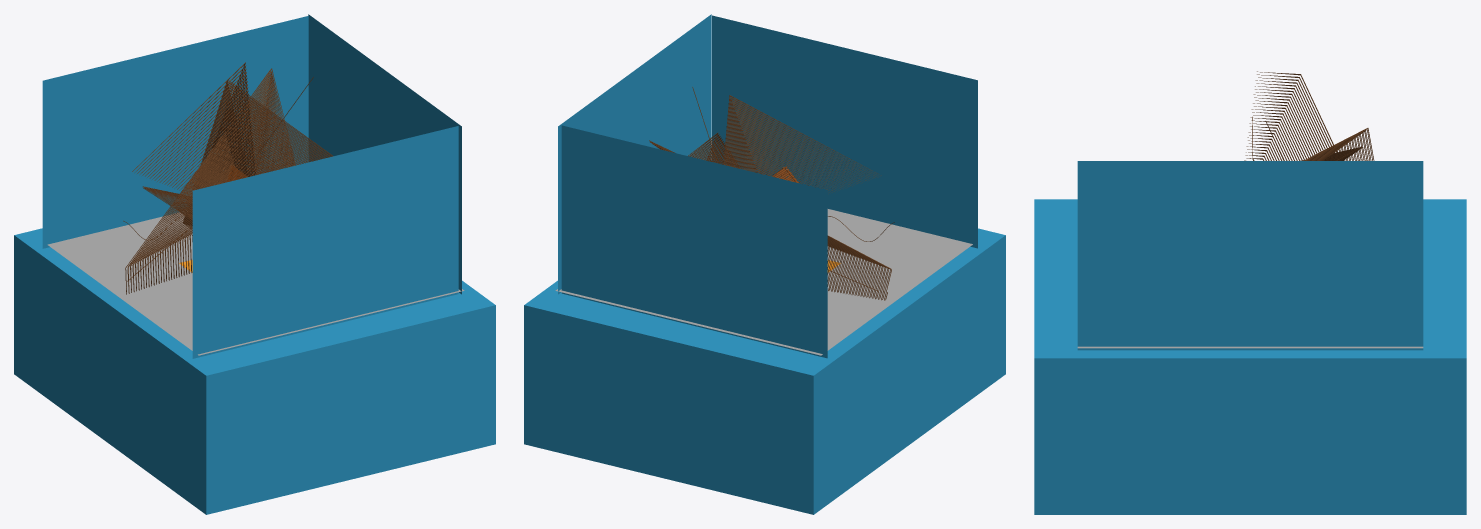
The model's file is well.fbx.
3 views of the same model, side by side, from view 1: azimuth 30°, elevation 25°; view 2: azimuth 150°, elevation 25°; view 3: azimuth 270°, elevation 25° (orthographic). The views are drawn at different scales.
Visible parts, largest first — view 1: Cube_1_3, Plane_2, Plane_1, Plane, Plane_2_2, Reep_03, Reep_02, Reep_01_4; view 2: Cube_1_3, Plane_1, Plane_2, Plane, Plane_2_2, Reep_03, Reep_02, Reep_01_4; view 3: Cube_1_3, Plane, Reep_02, Reep_03, Reep_01_4, Plane_2_2.
Boxes of the visible parts, <box> form: Cube_1_3: <box>14,228,495,514</box>; Plane_2: <box>192,126,458,358</box>; Plane_1: <box>42,16,308,248</box>; Plane: <box>308,14,461,294</box>; Plane_2_2: <box>47,212,464,355</box>; Reep_03: <box>125,65,332,292</box>; Reep_02: <box>127,62,333,293</box>; Reep_01_4: <box>126,68,329,294</box>; Cube_1_3: <box>524,228,1005,514</box>; Plane_1: <box>561,125,827,358</box>; Plane_2: <box>712,15,977,248</box>; Plane: <box>558,14,711,294</box>; Plane_2_2: <box>555,209,972,355</box>; Reep_03: <box>649,97,891,300</box>; Reep_02: <box>650,95,890,299</box>; Reep_01_4: <box>651,99,888,300</box>; Cube_1_3: <box>1034,199,1466,514</box>; Plane: <box>1077,161,1423,350</box>; Reep_02: <box>1246,71,1374,160</box>; Reep_03: <box>1244,74,1372,160</box>; Reep_01_4: <box>1245,77,1369,160</box>; Plane_2_2: <box>1077,346,1423,348</box>.
Size of the model in its own units: 435 by 471 by 500.
